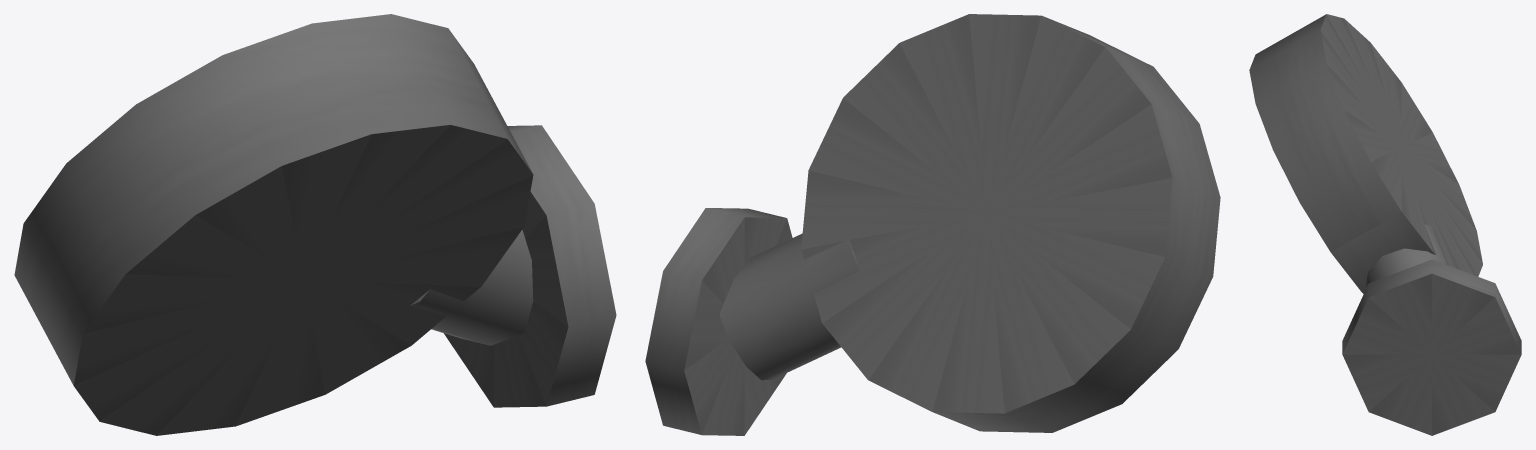
The model's file is mastarmcurve_6x2_c0_ped_east.obj.
The picture shows the model from 3 angles, left to right: view 1: azimuth 30°, elevation 25°; view 2: azimuth 150°, elevation 25°; view 3: azimuth 270°, elevation 25°; orthographic projection. The views are drawn at different scales.
Parts seen in each view (by area): view 1: mastarm_6x2_c0_ped_east; view 2: mastarm_6x2_c0_ped_east; view 3: mastarm_6x2_c0_ped_east.
Part boxes in pixels (box(x1,y1,x2,y2)): mastarm_6x2_c0_ped_east: box(14, 14, 616, 435); mastarm_6x2_c0_ped_east: box(645, 14, 1220, 435); mastarm_6x2_c0_ped_east: box(1249, 14, 1521, 435).
Size of the model in its own units: 0.8409 by 0.7676 by 0.6079.
